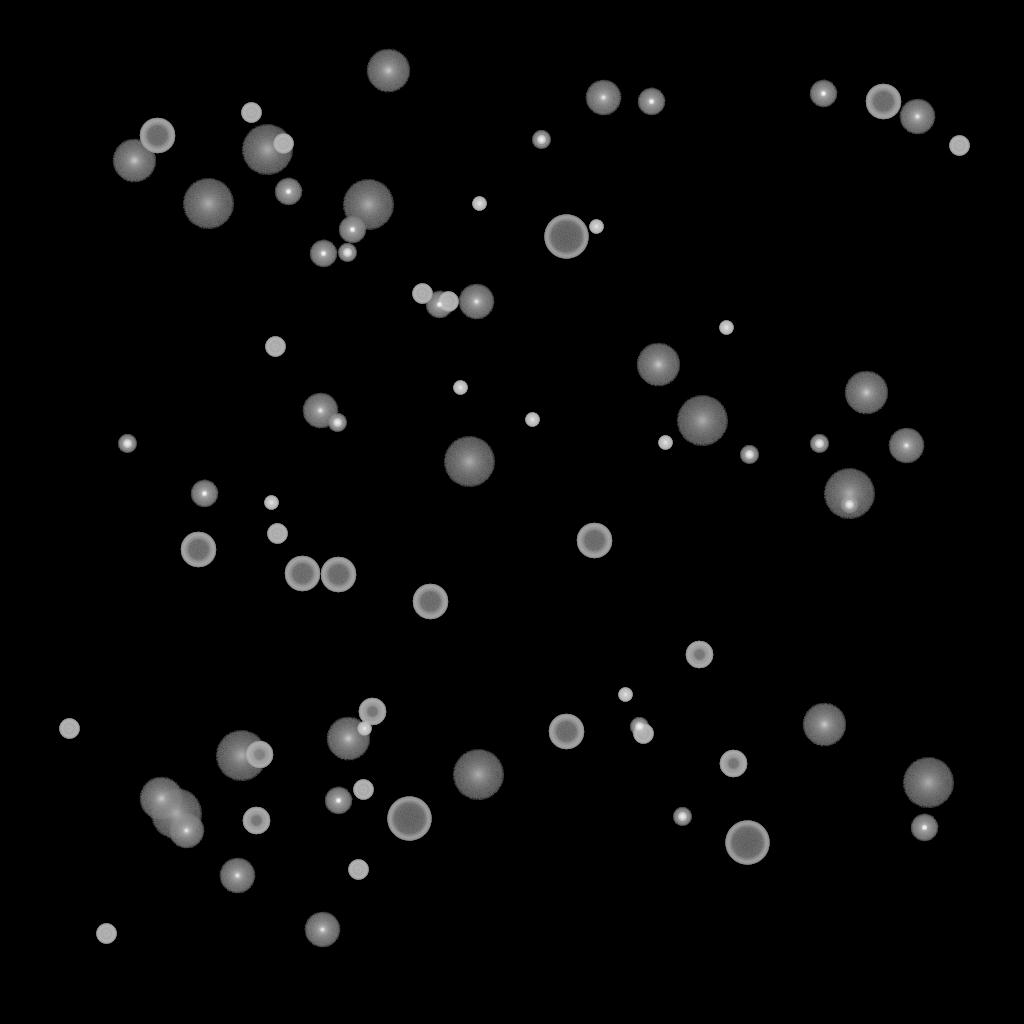depth:-10: (309, 240, 337, 268), (809, 80, 837, 108), (324, 787, 352, 815), (274, 178, 302, 206), (190, 480, 218, 508), (910, 814, 938, 842), (338, 216, 366, 244), (637, 88, 665, 116), (425, 291, 453, 319)
depth:-20: (338, 244, 356, 262), (118, 435, 136, 453), (630, 718, 648, 736), (328, 414, 346, 432), (532, 131, 550, 149), (673, 808, 691, 826), (810, 435, 828, 453), (840, 496, 858, 514), (740, 446, 758, 464)
depth:-30: (357, 722, 371, 736), (472, 197, 486, 211), (525, 413, 539, 427), (453, 381, 467, 395), (719, 321, 733, 335), (264, 496, 278, 510), (589, 220, 603, 234), (618, 688, 632, 702), (658, 436, 672, 450)
depth:-40: (96, 924, 116, 944), (353, 780, 373, 800), (348, 860, 368, 880), (267, 524, 287, 544), (438, 292, 458, 312), (59, 719, 79, 739), (265, 337, 285, 357), (273, 134, 293, 154), (412, 284, 432, 304), (949, 136, 969, 156), (241, 103, 261, 123), (633, 724, 653, 744)
depth:-50: (358, 698, 386, 726), (245, 741, 273, 769), (242, 807, 270, 835), (719, 750, 747, 778), (685, 641, 713, 669)
depth:-60: (139, 118, 175, 154), (180, 532, 216, 568), (576, 523, 612, 559), (412, 584, 448, 620), (548, 714, 584, 750), (320, 557, 356, 593), (284, 556, 320, 592), (865, 84, 901, 120)
depth:-70: (387, 797, 431, 841), (544, 215, 588, 259), (725, 821, 769, 865)
depth:0: (899, 99, 935, 135), (585, 80, 621, 116), (168, 813, 204, 849), (302, 393, 338, 429), (219, 858, 255, 894), (304, 912, 340, 948), (458, 284, 494, 320), (888, 428, 924, 464)
depth:10: (636, 343, 680, 387), (326, 717, 370, 761), (112, 139, 156, 183), (366, 49, 410, 93), (802, 703, 846, 747), (139, 777, 183, 821), (844, 371, 888, 415)
depth:20: (215, 731, 267, 781), (443, 437, 495, 487), (676, 396, 728, 446), (902, 758, 954, 808), (452, 750, 504, 800), (241, 125, 293, 175), (182, 179, 234, 229), (823, 469, 875, 519), (342, 180, 394, 230), (150, 789, 202, 839)
